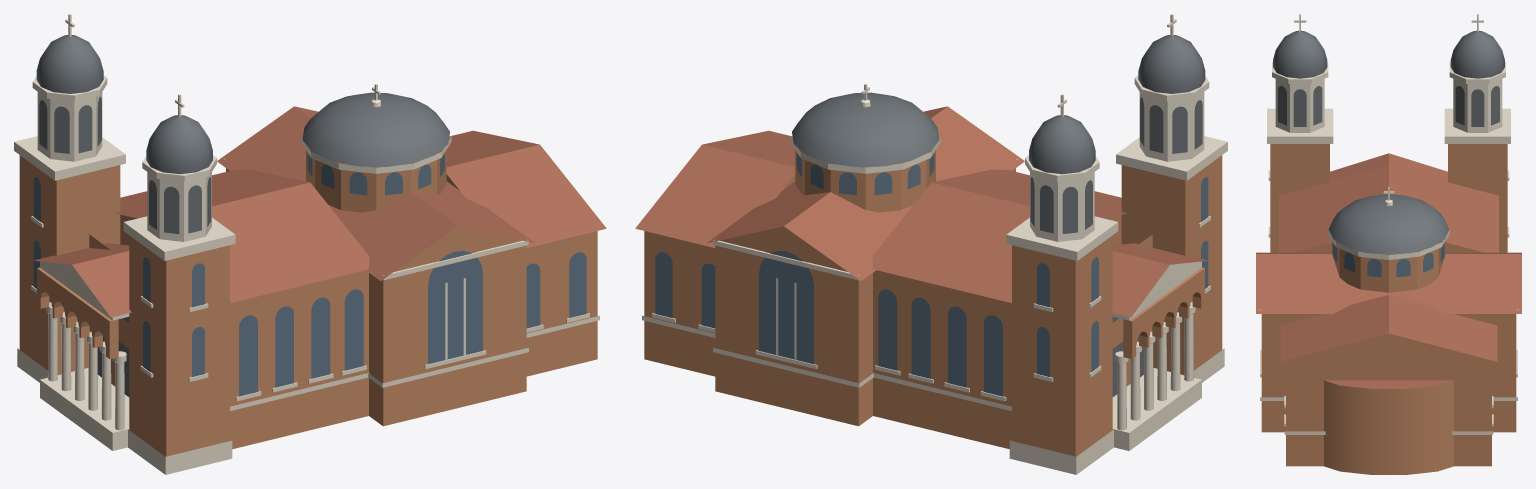
Rendered from slc-holy-trinity-cathedral.glb.
3 views of the same model, side by side, from view 1: azimuth 30°, elevation 25°; view 2: azimuth 150°, elevation 25°; view 3: azimuth 270°, elevation 25° (orthographic). The views are drawn at different scales.
Parts seen in each view (by area): view 1: Holy Trinity Cathedral; view 2: Holy Trinity Cathedral; view 3: Holy Trinity Cathedral.
Boxes of the visible parts, x1,y1,x2,y2 form: Holy Trinity Cathedral: [14, 14, 606, 474]; Holy Trinity Cathedral: [635, 14, 1227, 474]; Holy Trinity Cathedral: [1256, 14, 1521, 474].
Size of the model in its own units: 33.4 by 23.6 by 19.6.
